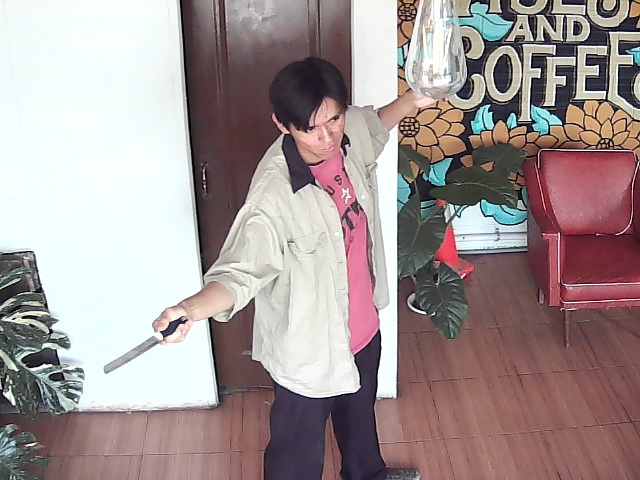cuchillo: (90, 298, 202, 383)
